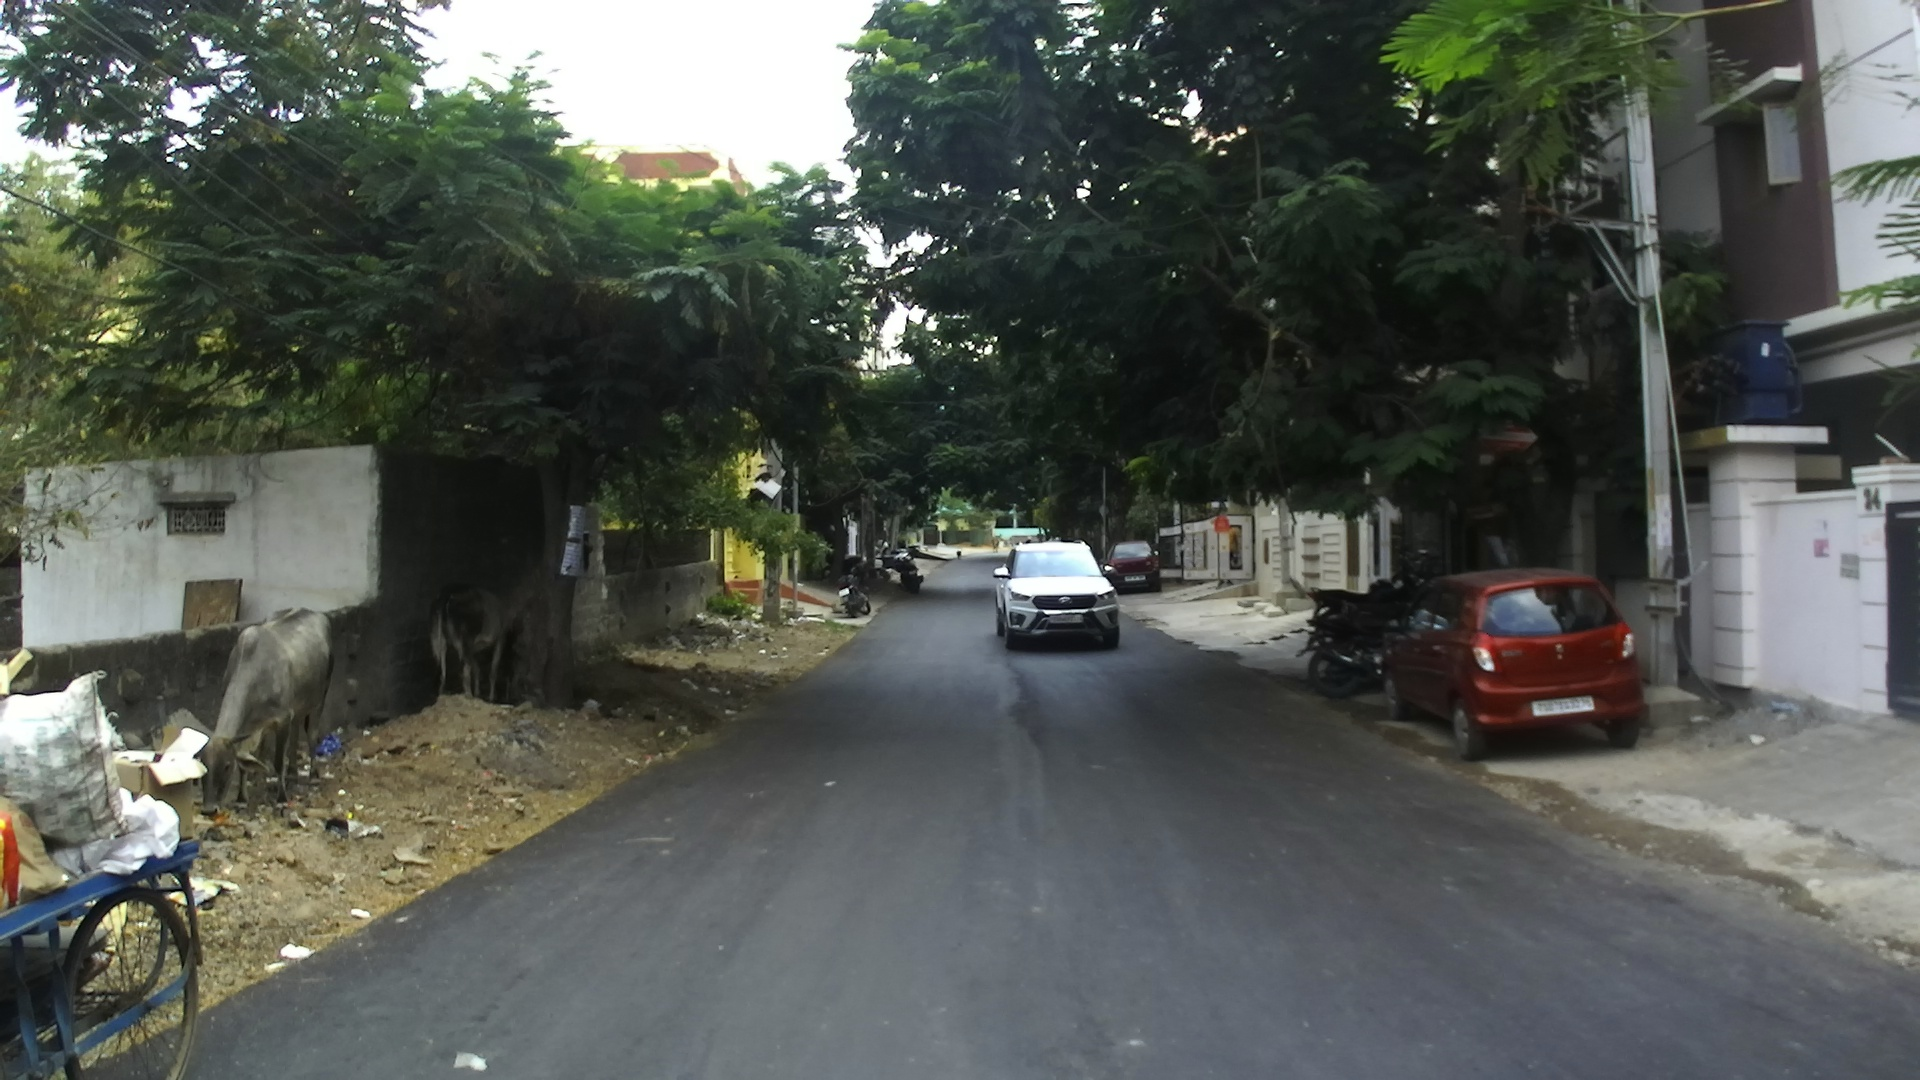vehicle: (1379, 567, 1648, 756), (994, 539, 1124, 650), (1302, 580, 1420, 691), (1105, 542, 1160, 593)
